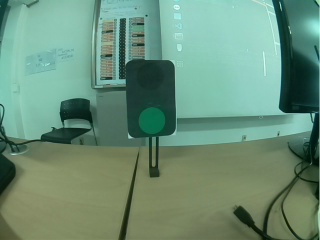green_light: (127, 60, 176, 138)
